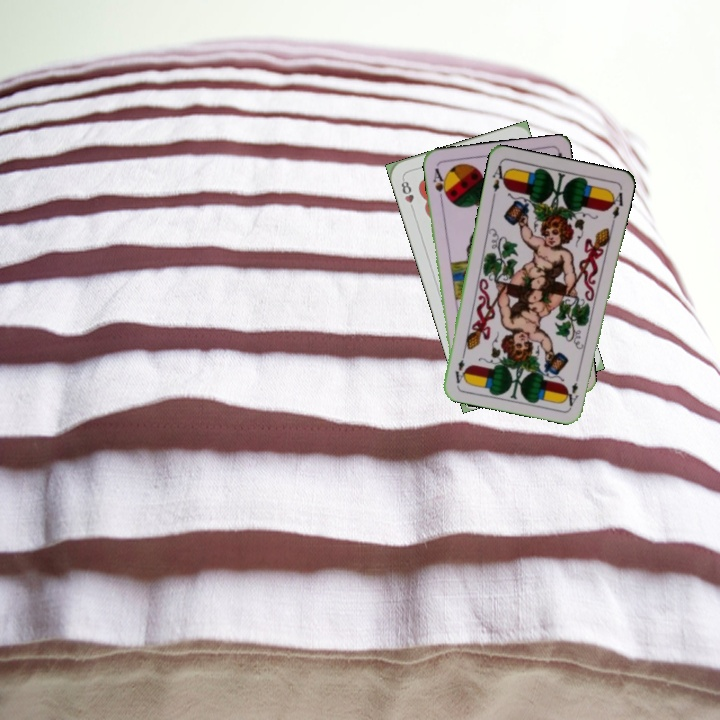EA: (488, 160, 510, 200), (565, 369, 582, 409)
H8: (397, 175, 417, 214)
SA: (429, 164, 450, 203)
